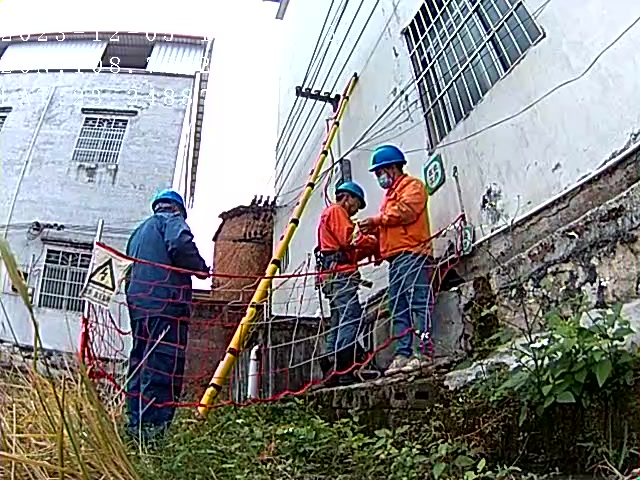downcloth: (389, 265, 433, 353), (322, 277, 361, 355)
downsuit: (123, 311, 191, 434)
halt: (369, 144, 409, 185), (334, 181, 367, 213), (151, 190, 189, 217)
hand: (356, 215, 376, 236)
person: (116, 188, 209, 443), (360, 141, 442, 375), (311, 182, 380, 390)
upsuit: (124, 213, 205, 307)
worksign: (424, 154, 445, 195)
yupsuit: (372, 176, 435, 257), (313, 203, 376, 276)
